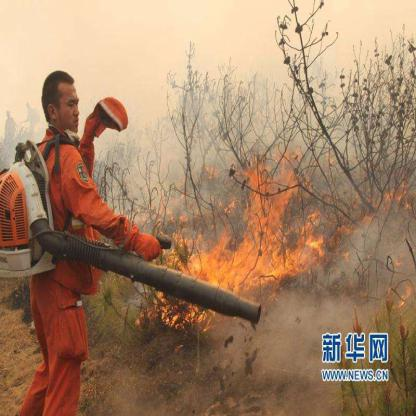fire: (135, 146, 405, 333)
